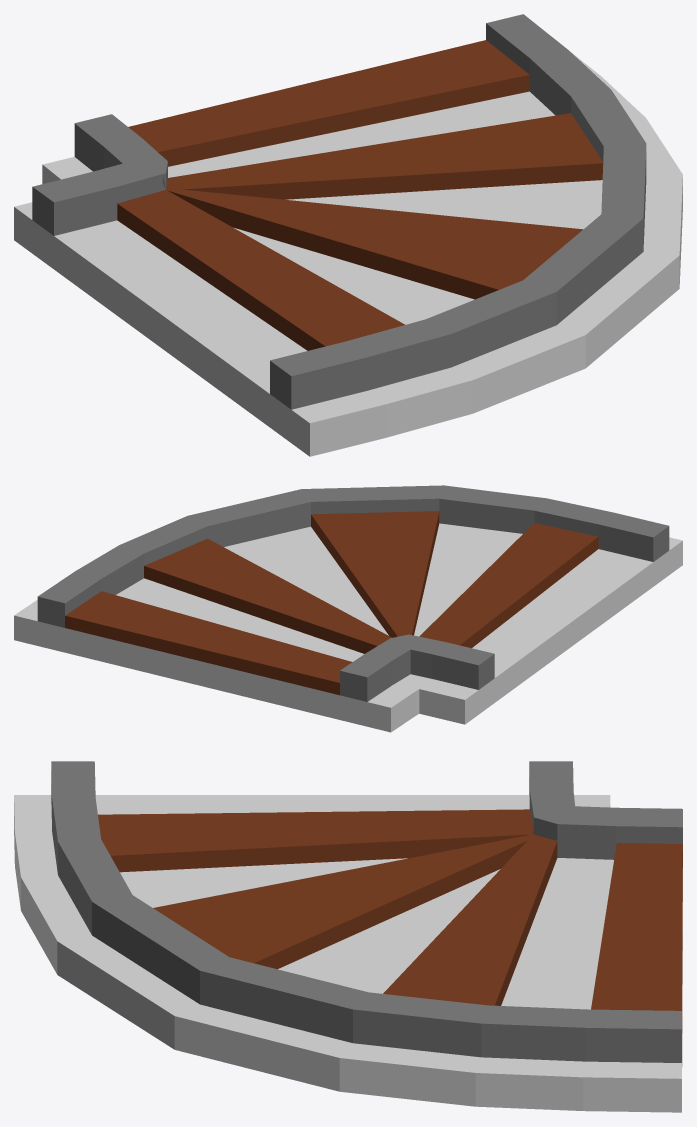
Rendered from rail_turn.fbx.
The picture shows the model from 3 angles, top to bottom: view 1: azimuth 30°, elevation 25°; view 2: azimuth 150°, elevation 25°; view 3: azimuth 270°, elevation 25°; orthographic projection. The views are drawn at different scales.
Visible parts, largest first — view 1: Cube; view 2: Cube; view 3: Cube.
Part boxes in pixels (box(x1,y1,x2,y2)): Cube: box(14, 14, 682, 456); Cube: box(14, 485, 682, 732); Cube: box(14, 761, 682, 1112).
Size of the model in its own units: 180 by 20 by 180.
